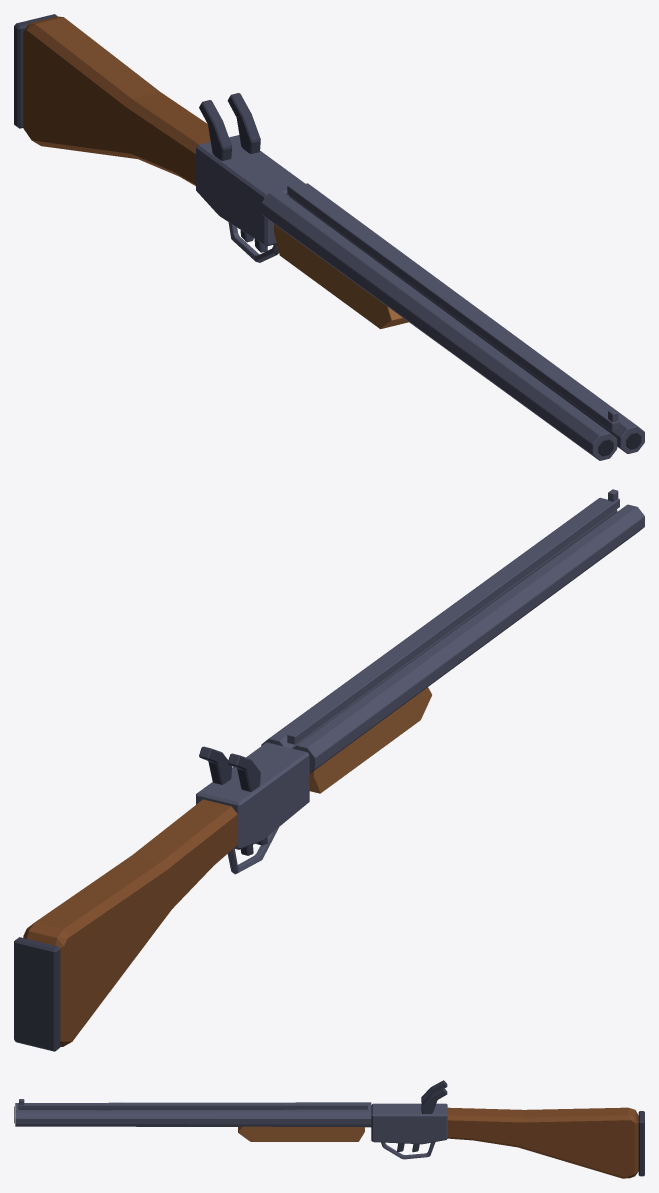
The model's file is myw_doublebarrel.glb.
3 renders of one model, top to bottom at view 1: azimuth 30°, elevation 25°; view 2: azimuth 150°, elevation 25°; view 3: azimuth 270°, elevation 25°, orthographic. The views are drawn at different scales.
Visible parts, largest first — view 1: Barrels, Stock, Action, Hammer_L, Hammer_R; view 2: Barrels, Stock, Action, Hammer_L; view 3: Barrels, Stock, Action, Hammer_R, Hammer_L.
Boxes of the visible parts, left/top/right/bottom form: Barrels: left=261, top=183, right=644, bottom=460; Stock: left=23, top=16, right=210, bottom=185; Action: left=14, top=14, right=305, bottom=262; Hammer_L: left=199, top=100, right=232, bottom=160; Hammer_R: left=227, top=93, right=260, bottom=153; Barrels: left=261, top=489, right=644, bottom=793; Stock: left=23, top=799, right=237, bottom=1046; Action: left=14, top=742, right=309, bottom=1051; Hammer_L: left=227, top=753, right=260, bottom=791; Barrels: left=14, top=1099, right=371, bottom=1141; Stock: left=447, top=1107, right=638, bottom=1178; Action: left=371, top=1103, right=644, bottom=1176; Hammer_R: left=421, top=1088, right=447, bottom=1113; Hammer_L: left=421, top=1080, right=447, bottom=1103.
Size of the model in its own units: 0.2653 by 0.7775 by 4.96.
